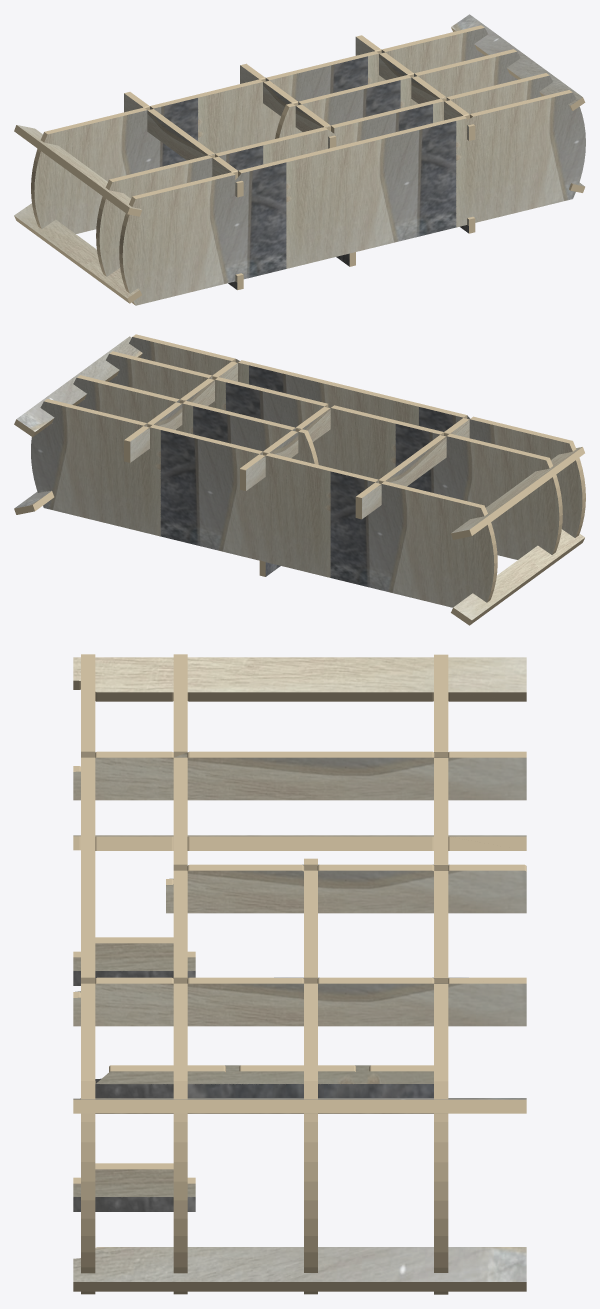
Rendered from NODO_RACK_KIRI_FOTOS_REALES_V4.glb.
3 renders of one model, top to bottom at view 1: azimuth 30°, elevation 25°; view 2: azimuth 150°, elevation 25°; view 3: azimuth 270°, elevation 25°, orthographic. The views are drawn at different scales.
Parts seen in each view (by area): view 1: A_KIRI, C_KIRI, B_KIRI, D_KIRI, F_left_front_KIRI, A_MDF, B_MDF, C_MDF, G_right_rear_KIRI, F_rear_KIRI, G_rear_KIRI, H_rear_KIRI (+7 smaller); view 2: C_KIRI, B_KIRI, A_KIRI, D_KIRI, F_left_front_KIRI, A_MDF, B_MDF, C_MDF, G_right_rear_KIRI, F_rear_KIRI, G_rear_KIRI, H_rear_KIRI (+7 smaller); view 3: F_rear_KIRI, G_rear_KIRI, F_left_rear_KIRI, G_right_front_KIRI, H_rear_KIRI, A_MDF, C_MDF, B_MDF, H_front_KIRI, G_right_rear_MDF, F_left_front_MDF, D_MDF (+10 smaller).
Boxes of the visible parts, bbox=[...] form: A_KIRI: bbox=[122, 92, 585, 305]; C_KIRI: bbox=[34, 28, 487, 233]; B_KIRI: bbox=[99, 75, 552, 276]; D_KIRI: bbox=[279, 52, 520, 137]; F_left_front_KIRI: bbox=[14, 203, 139, 298]; A_MDF: bbox=[119, 90, 572, 305]; B_MDF: bbox=[96, 73, 549, 276]; C_MDF: bbox=[31, 25, 484, 228]; G_right_rear_KIRI: bbox=[451, 14, 582, 105]; F_rear_KIRI: bbox=[124, 93, 237, 196]; G_rear_KIRI: bbox=[355, 37, 468, 140]; H_rear_KIRI: bbox=[240, 65, 329, 148]; C_KIRI: bbox=[31, 401, 494, 607]; B_KIRI: bbox=[106, 354, 559, 559]; A_KIRI: bbox=[129, 337, 582, 537]; D_KIRI: bbox=[73, 378, 314, 463]; F_left_front_KIRI: bbox=[453, 529, 584, 619]; A_MDF: bbox=[132, 334, 585, 537]; B_MDF: bbox=[109, 351, 562, 554]; C_MDF: bbox=[44, 399, 497, 602]; G_right_rear_KIRI: bbox=[16, 336, 142, 431]; F_rear_KIRI: bbox=[362, 419, 469, 518]; G_rear_KIRI: bbox=[130, 363, 237, 462]; H_rear_KIRI: bbox=[246, 408, 330, 490]; F_rear_KIRI: bbox=[73, 752, 526, 800]; G_rear_KIRI: bbox=[73, 977, 526, 1026]; F_left_rear_KIRI: bbox=[73, 657, 526, 701]; G_right_front_KIRI: bbox=[73, 1247, 526, 1281]; H_rear_KIRI: bbox=[166, 864, 526, 913]; A_MDF: bbox=[81, 654, 95, 1294]; C_MDF: bbox=[434, 654, 448, 1294]; B_MDF: bbox=[173, 654, 187, 1294]; H_front_KIRI: bbox=[95, 1065, 433, 1113]; G_right_rear_MDF: bbox=[73, 1099, 526, 1113]; F_left_front_MDF: bbox=[73, 836, 526, 850]; D_MDF: bbox=[304, 858, 317, 1294].
Size of the model in its own units: 1.36 by 0.342 by 0.578.
2 materials, 1 textured.
